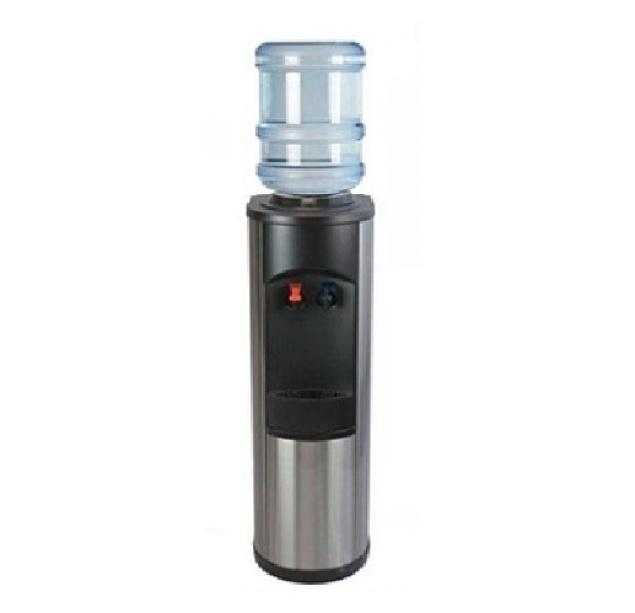Dispenser: (246, 40, 375, 585)
